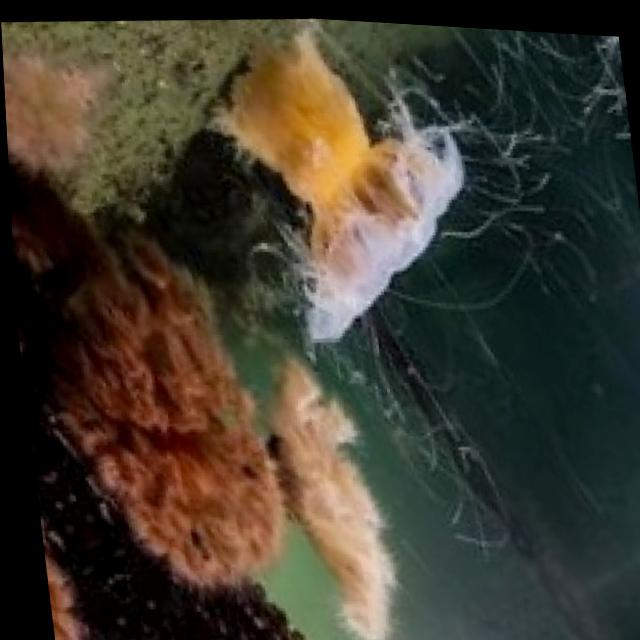Jellyfish: (197, 25, 501, 371)
